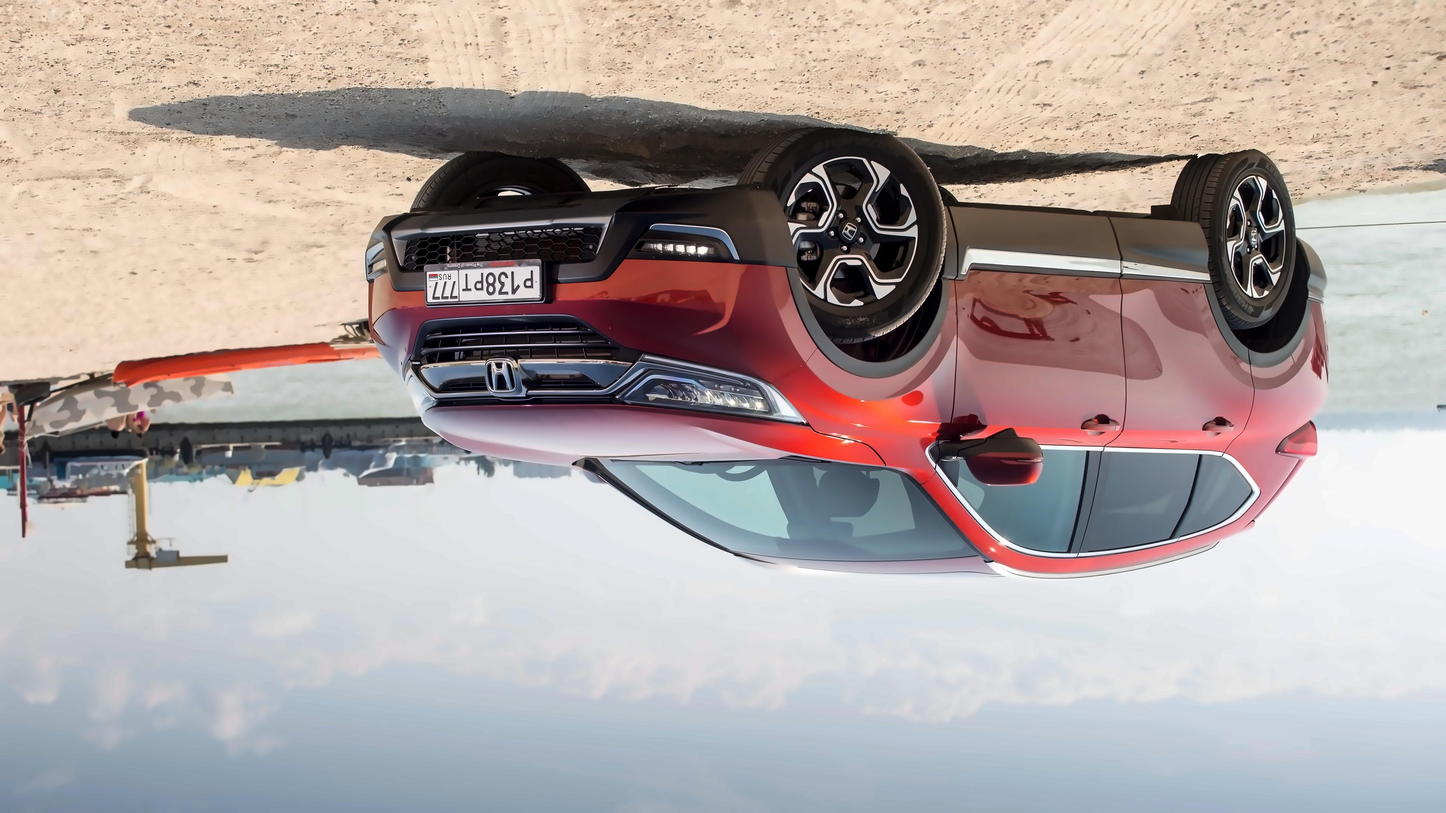Car hood: (418, 398, 888, 473)
Driver-s door - -F-R-: (926, 178, 1130, 587)
Fender - -F-R-: (746, 261, 980, 486)
Fender - -R-R-: (1209, 289, 1328, 496)
Front bumper: (364, 179, 813, 364)
Headlight - -L-: (401, 367, 439, 417)
Headlight - -R-: (613, 355, 808, 425)
Passenger-s door - -R-R-: (1068, 181, 1259, 604)
Rear light - -R-: (1274, 420, 1322, 458)
Side bumper - -R-: (940, 187, 1214, 344)
